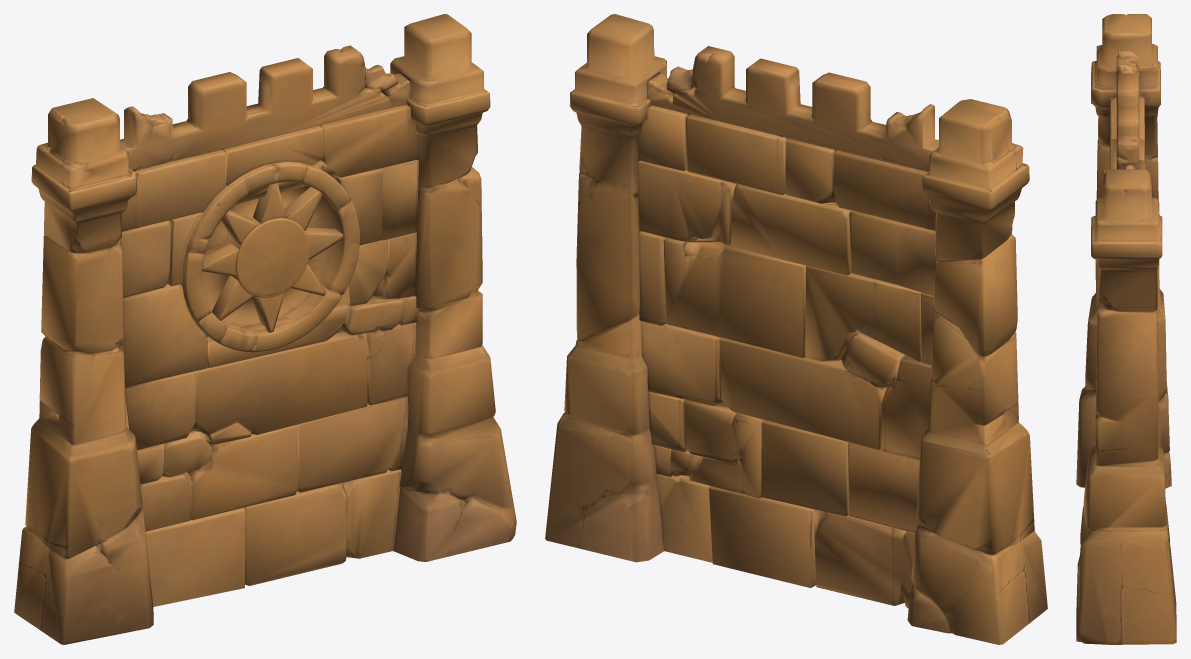
The model's file is SM_Tripo_DesertRampartPlain.glb.
3 renders of one model, left to right at view 1: azimuth 30°, elevation 25°; view 2: azimuth 150°, elevation 25°; view 3: azimuth 270°, elevation 25°, orthographic. The views are drawn at different scales.
Visible parts, largest first — view 1: SM_Tripo_DesertRampartPlain_LOD0; view 2: SM_Tripo_DesertRampartPlain_LOD0; view 3: SM_Tripo_DesertRampartPlain_LOD0.
Boxes of the visible parts, x1,y1,x2,y2 form: SM_Tripo_DesertRampartPlain_LOD0: (14, 14, 516, 644); SM_Tripo_DesertRampartPlain_LOD0: (545, 14, 1047, 644); SM_Tripo_DesertRampartPlain_LOD0: (1076, 14, 1176, 644).
Bounding box in the file's own units: 8.47 × 9 × 1.83.
1 material, 1 textured.
